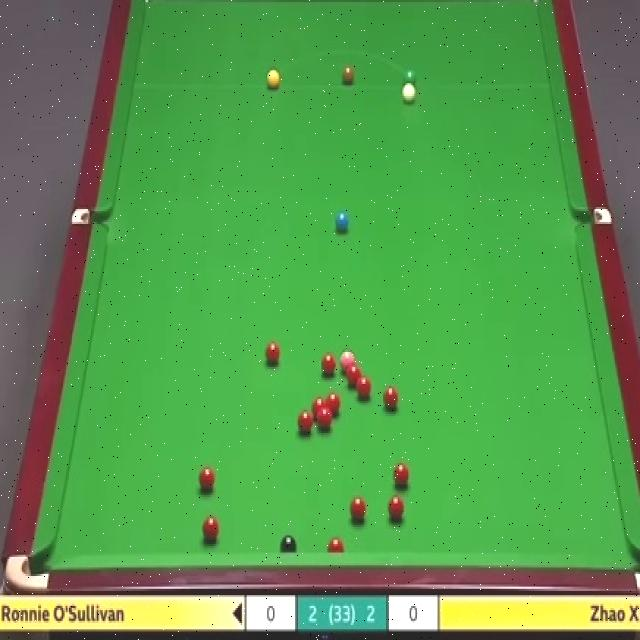black-ball: (280, 535, 298, 552)
blue-ball: (334, 212, 350, 230)
brown-ball: (342, 66, 354, 84)
green-ball: (402, 67, 418, 90)
pink-ball: (340, 349, 355, 372)
red-ball: (350, 494, 368, 524), (392, 463, 411, 490), (197, 466, 217, 488), (202, 518, 220, 542), (318, 354, 337, 376), (388, 495, 404, 521), (328, 390, 346, 413), (354, 374, 371, 398), (265, 338, 281, 363), (383, 385, 399, 410), (298, 409, 312, 434), (346, 363, 361, 383), (312, 397, 326, 418), (318, 407, 332, 428), (326, 537, 346, 551)
white-ball: (402, 83, 416, 102)
yellow-ball: (267, 68, 280, 90)
